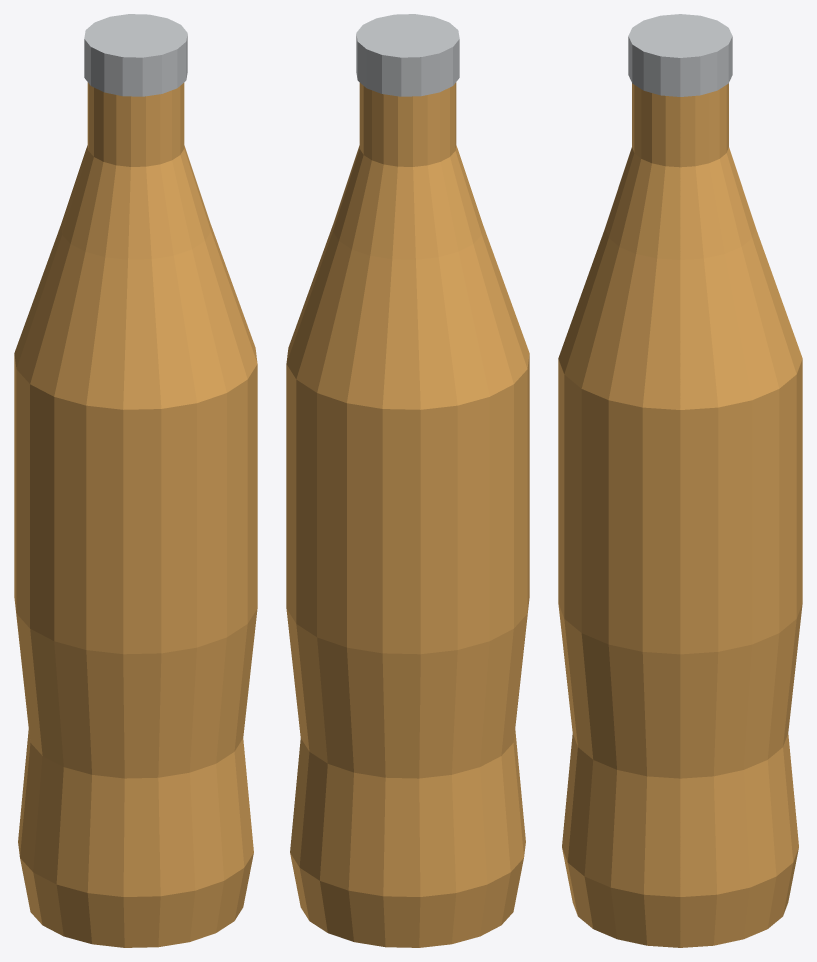
File: item_49_orange_soda.glb
3 renders of one model, left to right at view 1: azimuth 30°, elevation 25°; view 2: azimuth 150°, elevation 25°; view 3: azimuth 270°, elevation 25°, orthographic.
Visible parts, largest first — view 1: SodaBottle, SodaBottle_Cap; view 2: SodaBottle, SodaBottle_Cap; view 3: SodaBottle, SodaBottle_Cap.
Part boxes in pixels (<box>): SodaBottle: <box>14,82,257,947</box>; SodaBottle_Cap: <box>84,14,187,96</box>; SodaBottle: <box>286,82,529,947</box>; SodaBottle_Cap: <box>356,14,459,96</box>; SodaBottle: <box>558,83,802,947</box>; SodaBottle_Cap: <box>628,14,732,96</box>.
Bounding box in the file's own units: 0.068 × 0.269 × 0.068.
